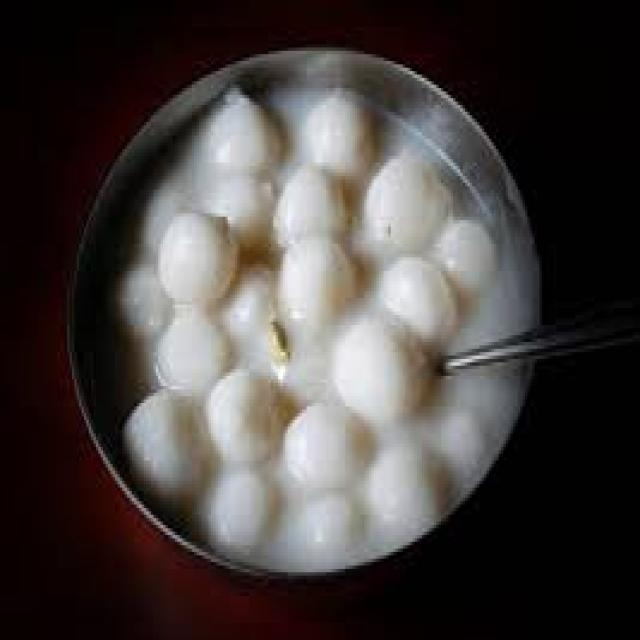paal kolukattai: (92, 86, 540, 570)
